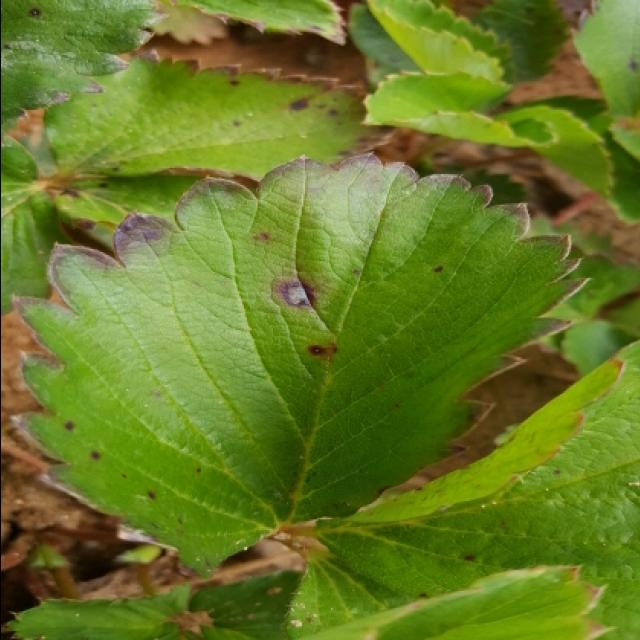Leaf Spot: (13, 149, 592, 579), (43, 47, 400, 183), (2, 0, 169, 133), (43, 169, 208, 226), (171, 0, 349, 46)
